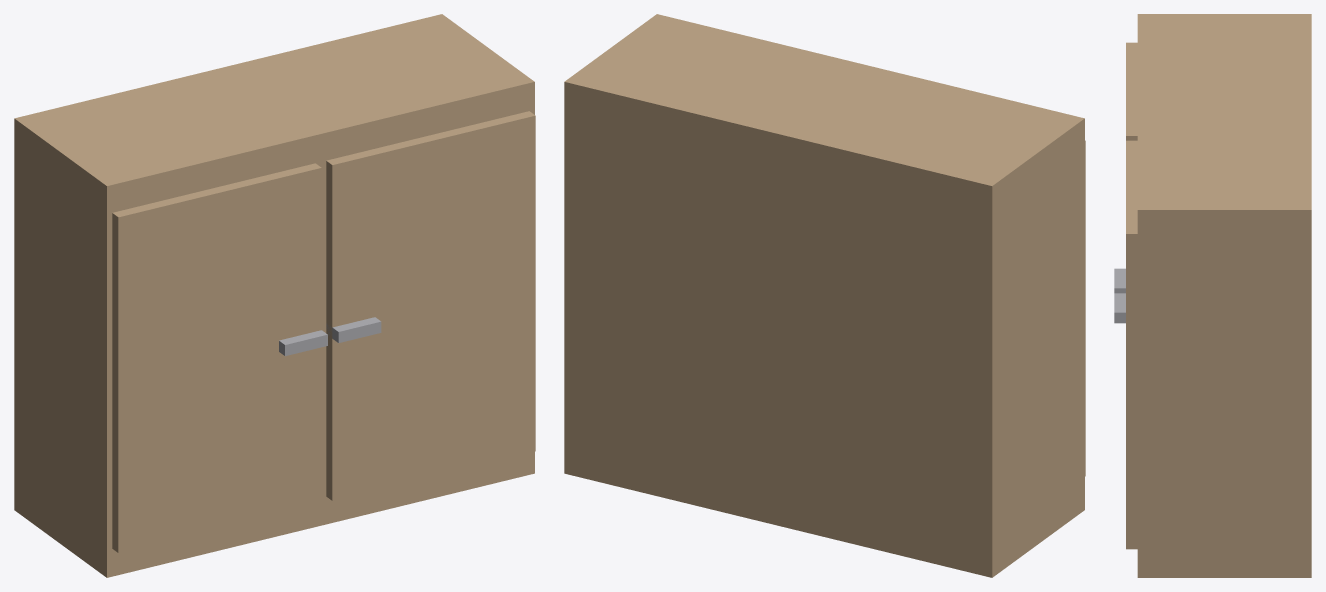
Rendered from kitchen_wall_cabinet.glb.
3 renders of one model, left to right at view 1: azimuth 30°, elevation 25°; view 2: azimuth 150°, elevation 25°; view 3: azimuth 270°, elevation 25°, orthographic. The views are drawn at different scales.
Visible parts, largest first — view 1: body, door_l, door_r, handle_r, handle_l; view 2: body; view 3: body, door_r, door_l, handle_r, handle_l.
Boxes of the visible parts, x1=… form: body: x1=14, y1=14, x2=534, y2=577; door_l: x1=112, y1=163, x2=321, y2=552; door_r: x1=326, y1=111, x2=535, y2=500; handle_r: x1=326, y1=317, x2=381, y2=342; handle_l: x1=279, y1=330, x2=327, y2=356; body: x1=564, y1=14, x2=1084, y2=577; body: x1=1137, y1=14, x2=1311, y2=577; door_r: x1=1126, y1=140, x2=1137, y2=549; door_l: x1=1126, y1=42, x2=1137, y2=140; handle_r: x1=1114, y1=293, x2=1125, y2=323; handle_l: x1=1114, y1=268, x2=1125, y2=293.
Bounding box in the file's own units: 0.8 × 0.7 × 0.34.
